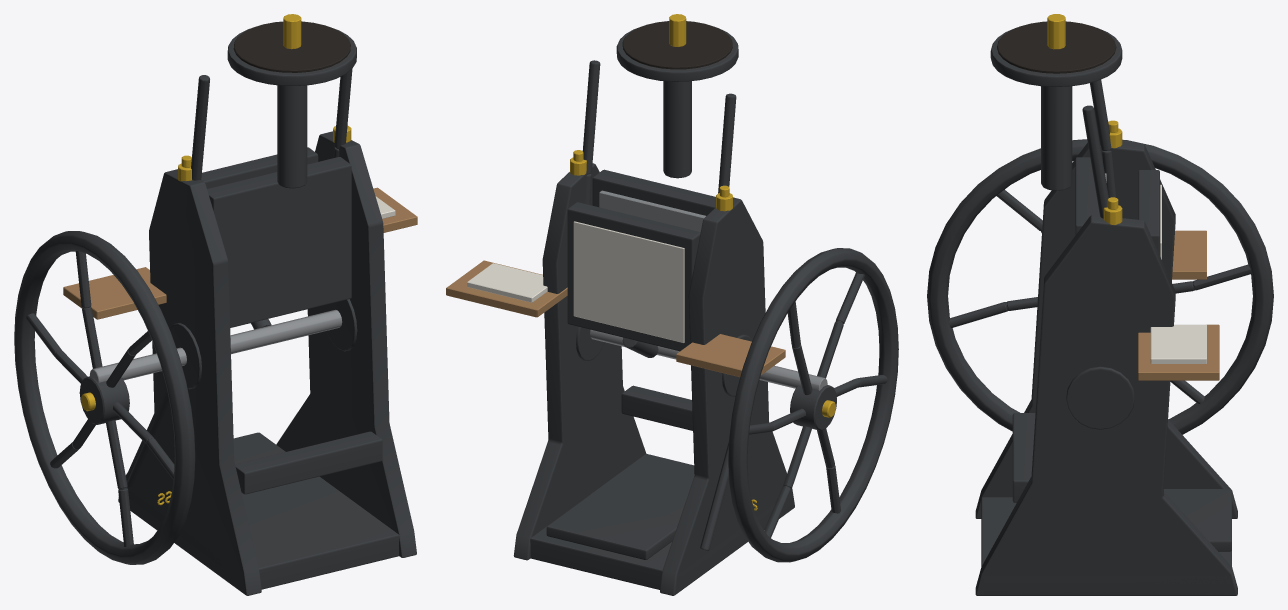
Rendered from prop_sh_old_press.glb.
3 renders of one model, left to right at view 1: azimuth 30°, elevation 25°; view 2: azimuth 150°, elevation 25°; view 3: azimuth 270°, elevation 25°, orthographic. The views are drawn at different scales.
Parts seen in each view (by area): view 1: Body, Flywheel; view 2: Body, Flywheel; view 3: Body, Flywheel.
Part boxes in pixels (box(x1,y1,x2,y2)): Body: box(63, 14, 417, 595); Flywheel: box(14, 231, 195, 564); Body: box(446, 14, 827, 595); Flywheel: box(728, 248, 898, 562); Body: box(975, 14, 1237, 595); Flywheel: box(927, 139, 1273, 434).
Size of what is drawn, in the model's own units: 1.32 by 1.89 by 1.11.
